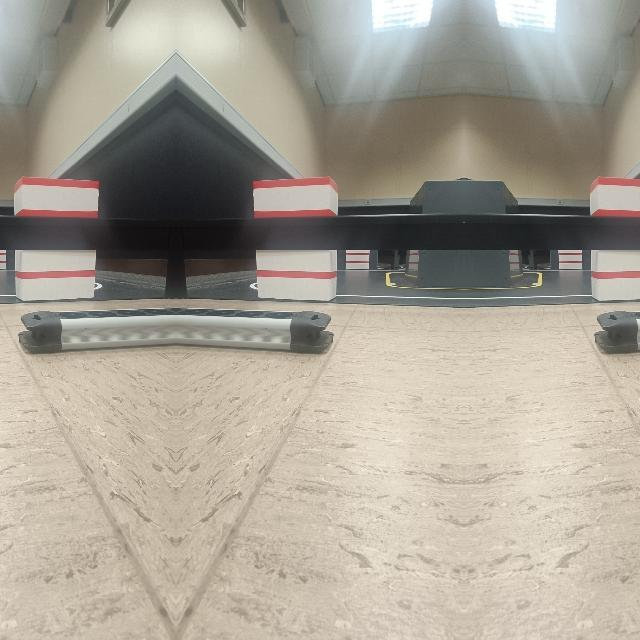obstacle: (174, 304, 334, 354), (16, 304, 176, 354), (593, 304, 640, 353)
